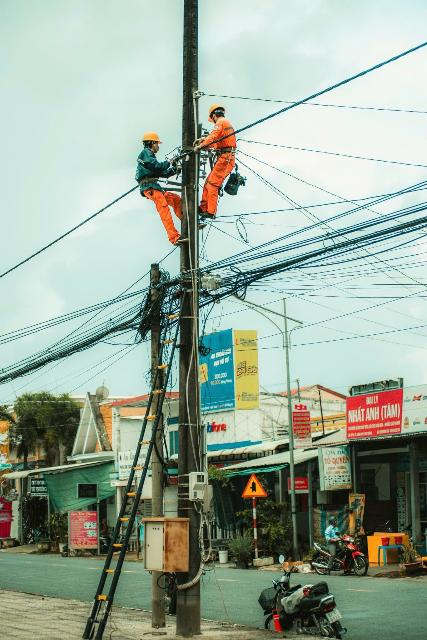gloves: (189, 136, 205, 146), (193, 145, 205, 155), (167, 156, 182, 163)
harness: (134, 176, 178, 189), (209, 147, 242, 154)
helmet: (203, 99, 230, 121), (140, 129, 165, 146)
shoes: (170, 235, 192, 246), (199, 210, 218, 221), (190, 221, 210, 230), (191, 205, 208, 215)
